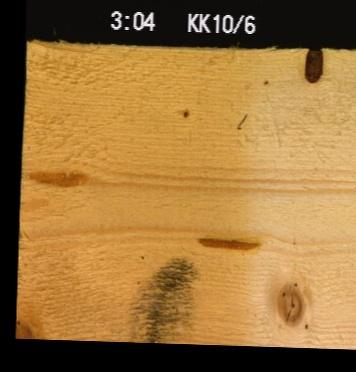edge_knot: (15, 318, 38, 337)
small_knot: (181, 108, 187, 117)
sound_knot: (274, 277, 305, 326)
